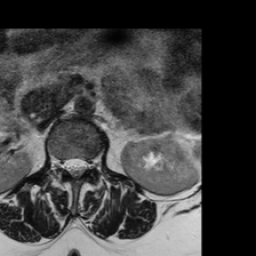CCS_normal: (72, 148, 80, 189)
LFS_stenosis: (88, 148, 96, 180)
LLS_normal: (80, 149, 88, 184)
RFS_normal: (55, 145, 64, 181)
RLS_normal: (64, 147, 72, 184)
